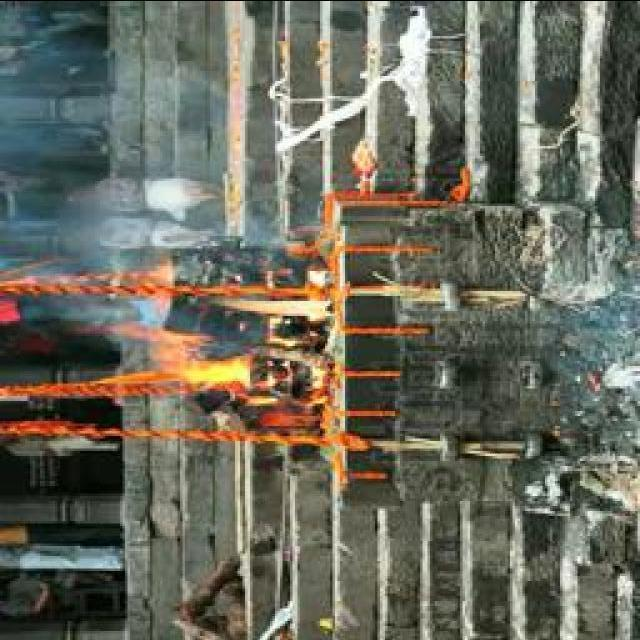Fire: (121, 286, 334, 386)
